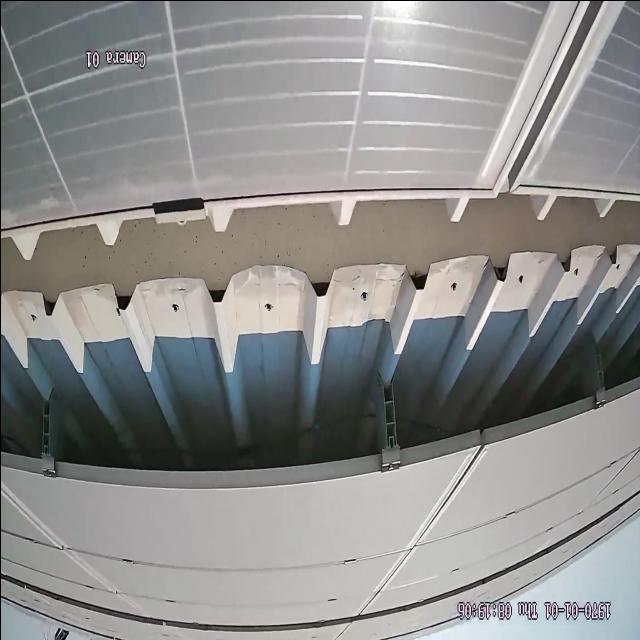interior panel: (485, 0, 628, 159), (363, 453, 484, 608), (2, 481, 141, 611)
outher panel: (0, 178, 640, 489)
